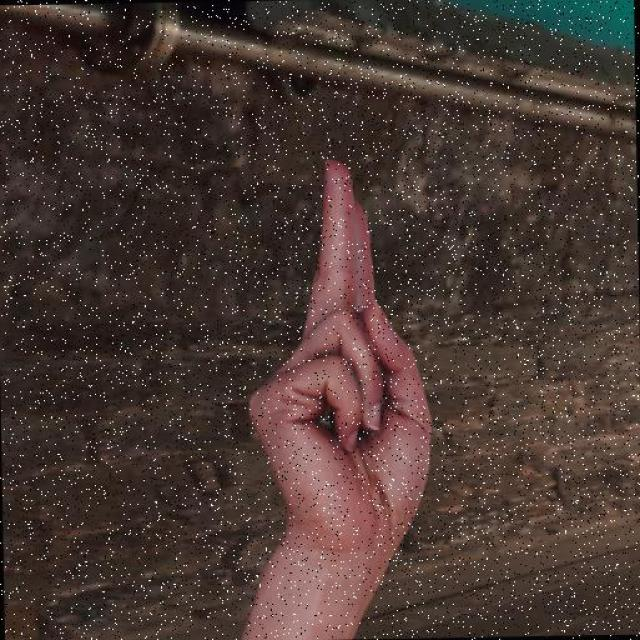U: (240, 152, 439, 558)
